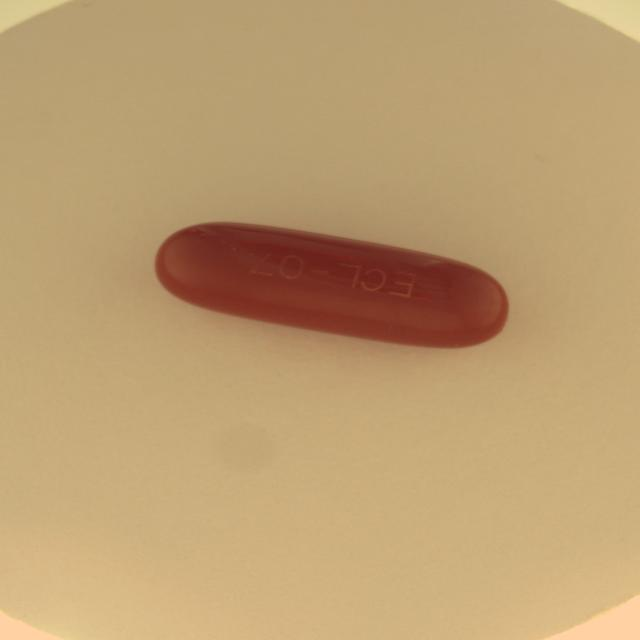Oval: (156, 220, 507, 349)
